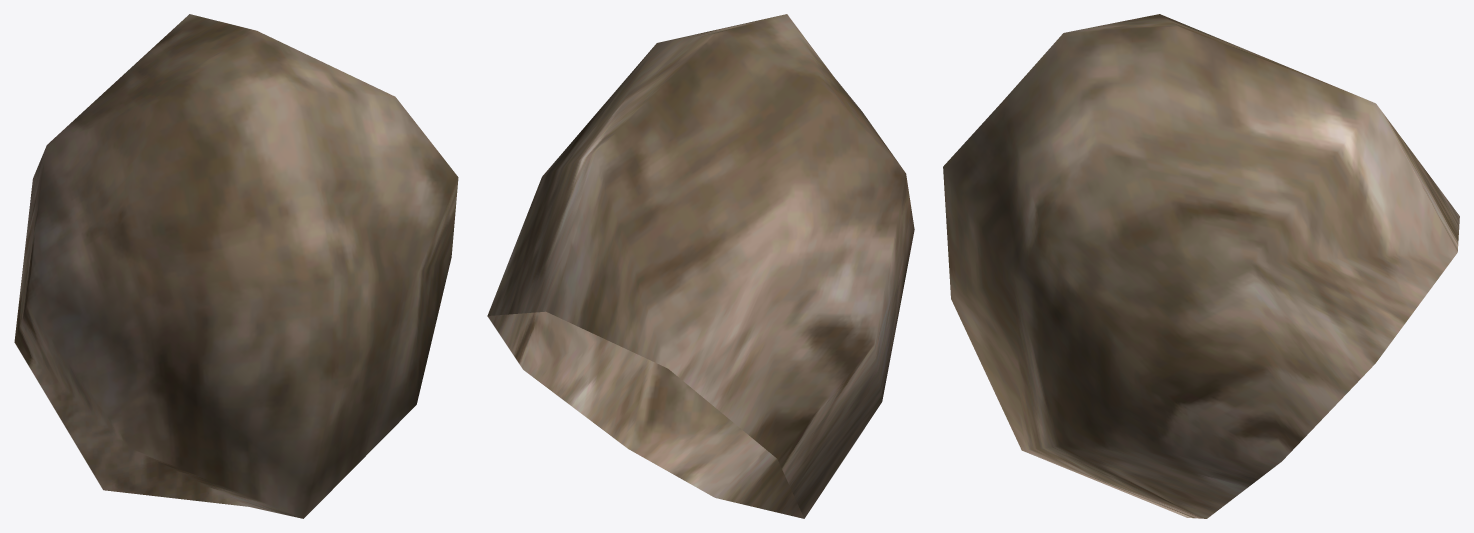
File: OVERHILL_A_01_ROCK50.fbx
3 renders of one model, left to right at view 1: azimuth 30°, elevation 25°; view 2: azimuth 150°, elevation 25°; view 3: azimuth 270°, elevation 25°, orthographic. The views are drawn at different scales.
Parts seen in each view (by area): view 1: OVERHILL_A_01_ROCK50; view 2: OVERHILL_A_01_ROCK50; view 3: OVERHILL_A_01_ROCK50.
Boxes of the visible parts, box(x1,y1,x2,y2) form: OVERHILL_A_01_ROCK50: box(14, 14, 458, 518); OVERHILL_A_01_ROCK50: box(487, 14, 914, 518); OVERHILL_A_01_ROCK50: box(943, 14, 1459, 518).
Bounding box in the file's own units: 10823 × 13191 × 12533.
1 material, 1 textured.
